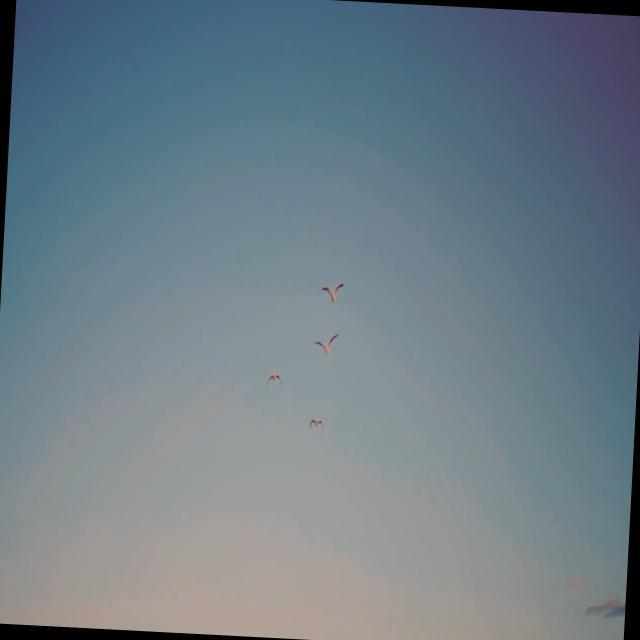bird: (312, 331, 341, 357), (321, 281, 346, 305), (264, 373, 284, 391), (308, 417, 326, 433)
